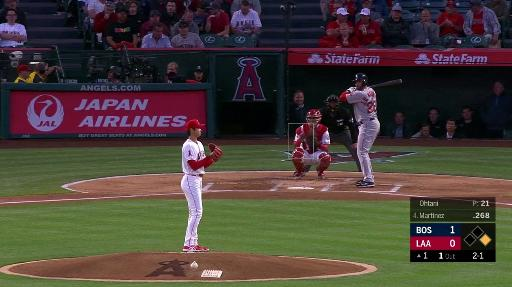pitcher: (180, 118, 223, 253)
